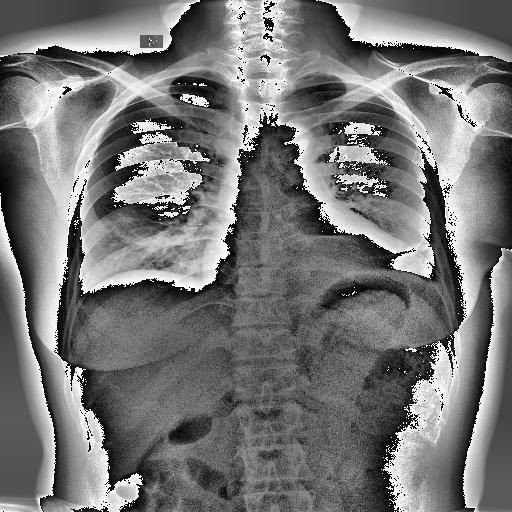0- Aortic enlargement: (264, 120, 320, 182)
11- Pleural thickening: (302, 84, 365, 92)
13- Pulmonary fibrosis: (368, 238, 432, 262), (370, 234, 436, 256), (367, 238, 432, 260)
3- Cardiomegaly: (200, 242, 404, 340), (199, 228, 405, 284), (201, 241, 405, 292)
9- Other lesion: (290, 207, 382, 279)
